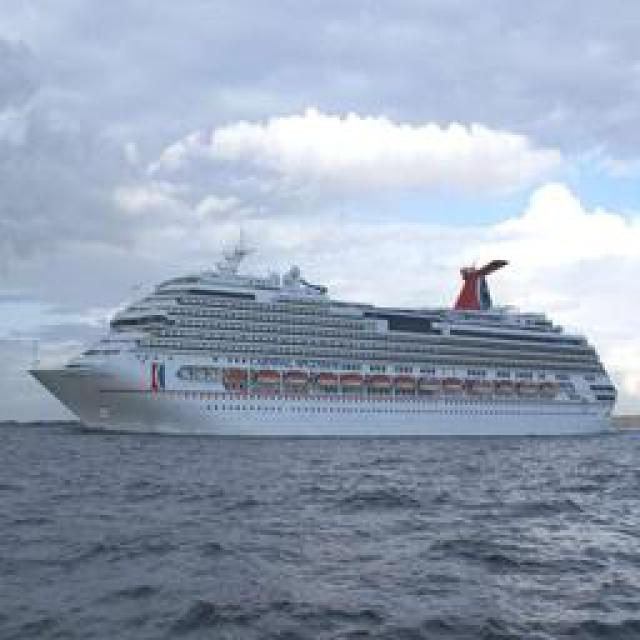Ship: (46, 247, 614, 440)
